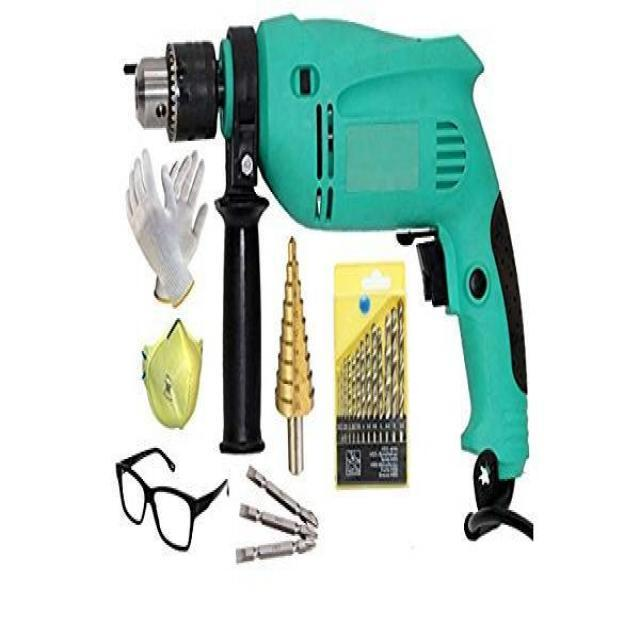drill: (123, 13, 534, 544)
